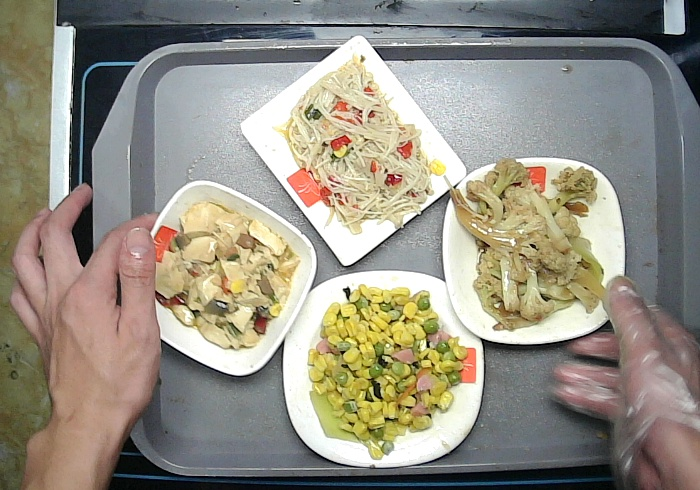SHKJ-Bai_Se_Cai_Die: (439, 153, 628, 348)
SHKJ-Bai_Se_Si_Fang_Cai_Die: (281, 267, 488, 471)
SHKJ-Bai_Se_Xiao_Fang_Die: (141, 178, 320, 380)
SHKJ-Si_Fang_Min: (238, 34, 468, 267)
